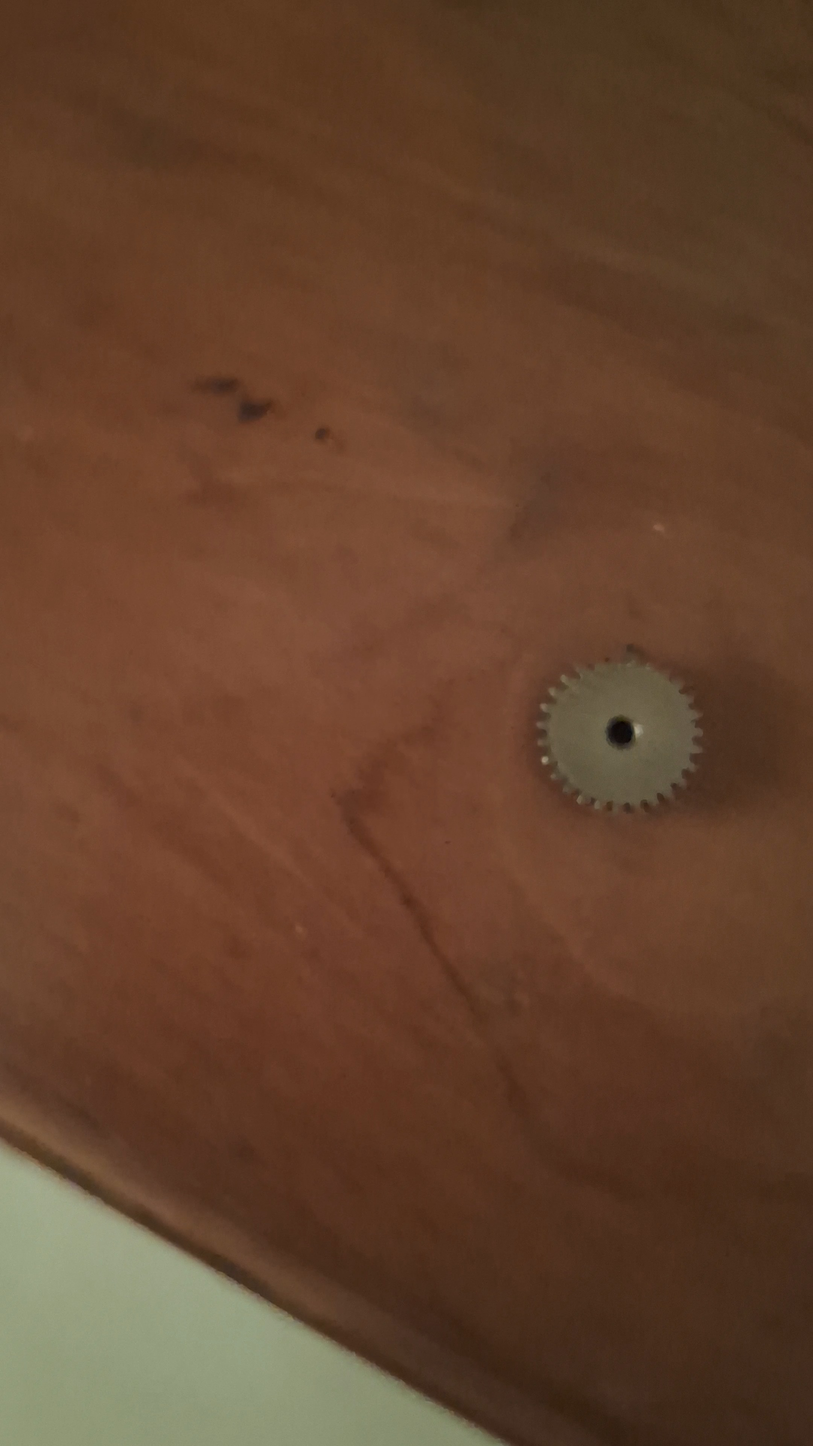spur gear: (537, 658, 701, 809)
